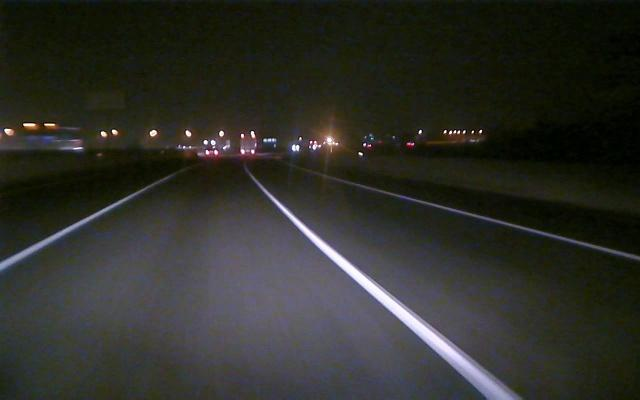lane: (255, 182, 524, 399), (344, 180, 640, 262), (2, 185, 151, 269)
